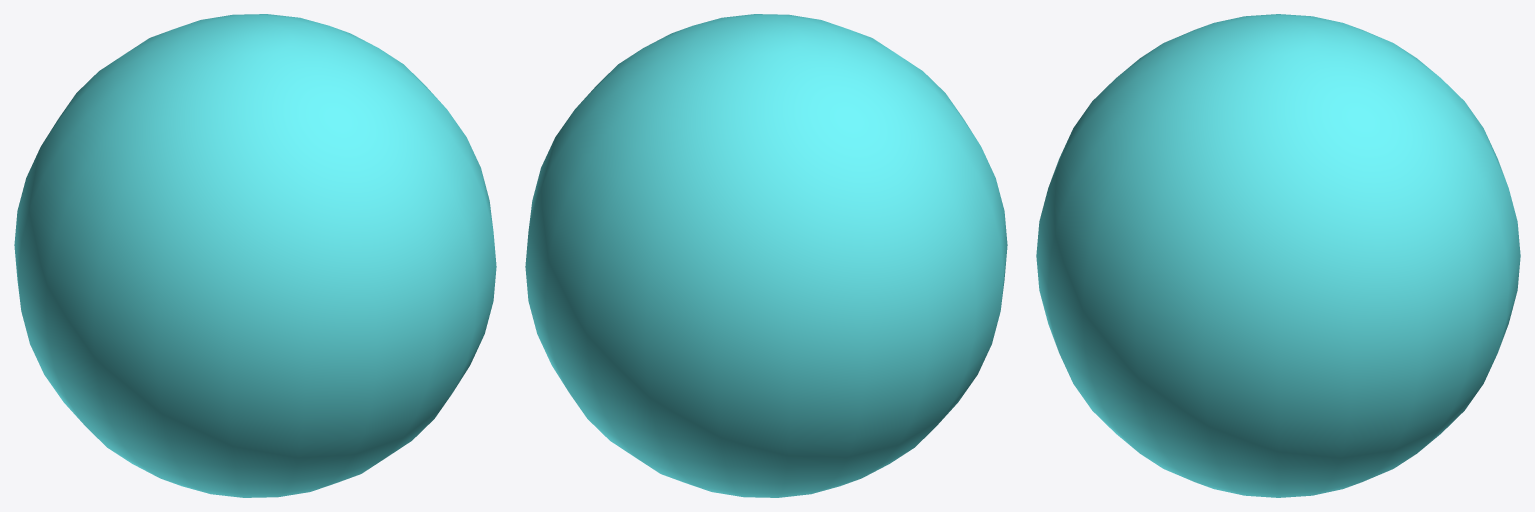
The model's file is fairy.fbx.
3 renders of one model, left to right at view 1: azimuth 30°, elevation 25°; view 2: azimuth 150°, elevation 25°; view 3: azimuth 270°, elevation 25°, orthographic.
Parts seen in each view (by area): view 1: fairy_outside1; view 2: fairy_outside1; view 3: fairy_outside1.
Boxes of the visible parts, bbox=[...] form: fairy_outside1: bbox=[14, 14, 496, 497]; fairy_outside1: bbox=[525, 14, 1007, 497]; fairy_outside1: bbox=[1036, 14, 1520, 497].
Size of the model in its own units: 41.6 by 41.6 by 41.6.
